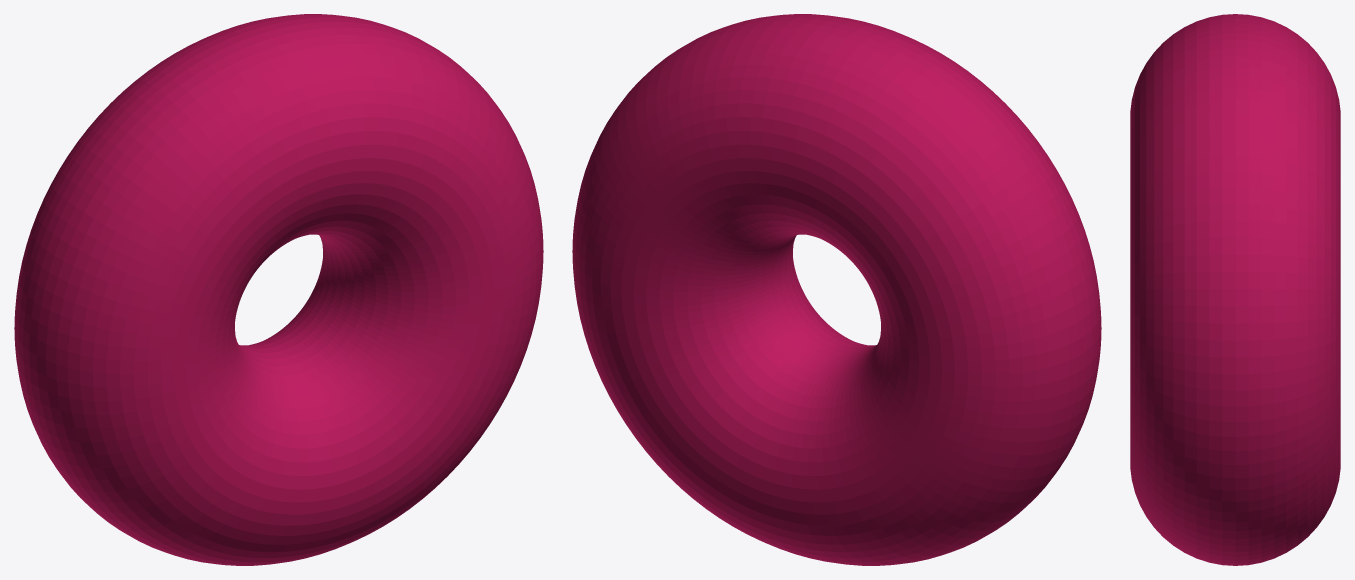
The picture shows the model from 3 angles, left to right: view 1: azimuth 30°, elevation 25°; view 2: azimuth 150°, elevation 25°; view 3: azimuth 270°, elevation 25°; orthographic projection. The views are drawn at different scales.
Parts seen in each view (by area): view 1: world; view 2: world; view 3: world.
Boxes of the visible parts, left/top/right/bottom form: world: left=14, top=14, right=543, bottom=565; world: left=572, top=14, right=1101, bottom=565; world: left=1130, top=14, right=1340, bottom=565.
Bounding box in the file's own units: 22.67 × 22.67 × 8.65.
